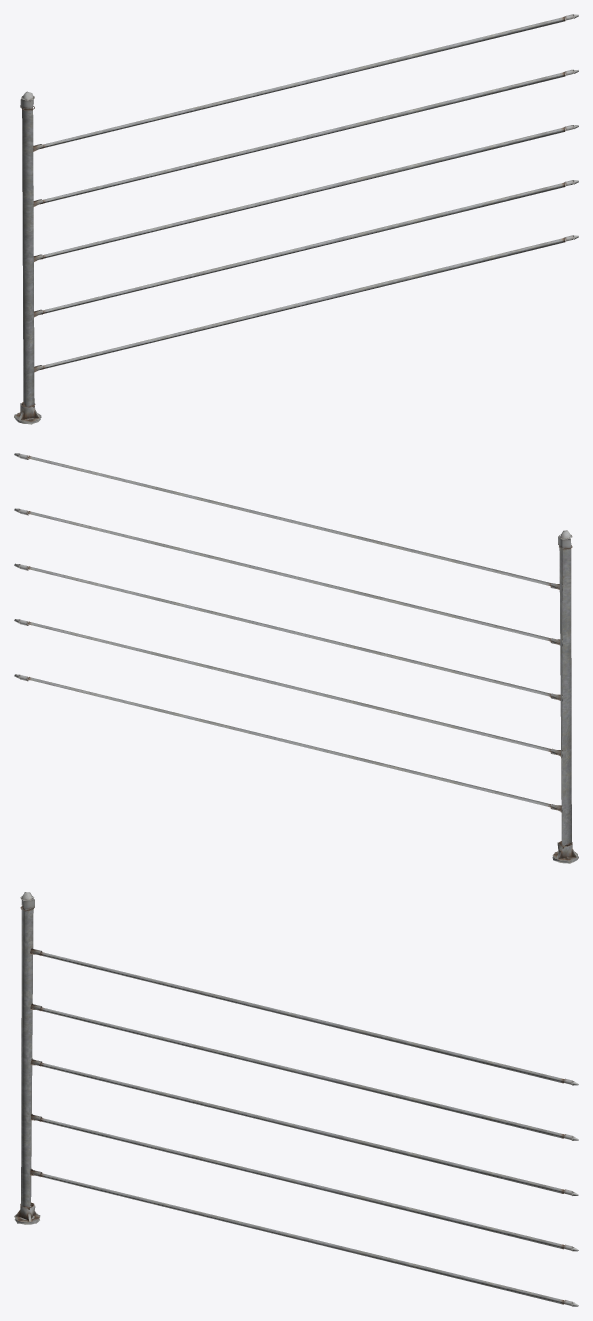
Rendered from reference-horizontal-railing.glb.
3 renders of one model, top to bottom at view 1: azimuth 30°, elevation 25°; view 2: azimuth 150°, elevation 25°; view 3: azimuth 330°, elevation 25°, orthographic.
Visible parts, largest first — view 1: reference_rail_post; view 2: reference_rail_post; view 3: reference_rail_post.
Part boxes in pixels (x1,y1,x2,y2): reference_rail_post: [14, 14, 578, 424]; reference_rail_post: [14, 453, 578, 863]; reference_rail_post: [14, 892, 578, 1306].
Size of the model in its own units: 2.45 by 1.36 by 0.1008.
Materials: 1 (1 with a texture image).
